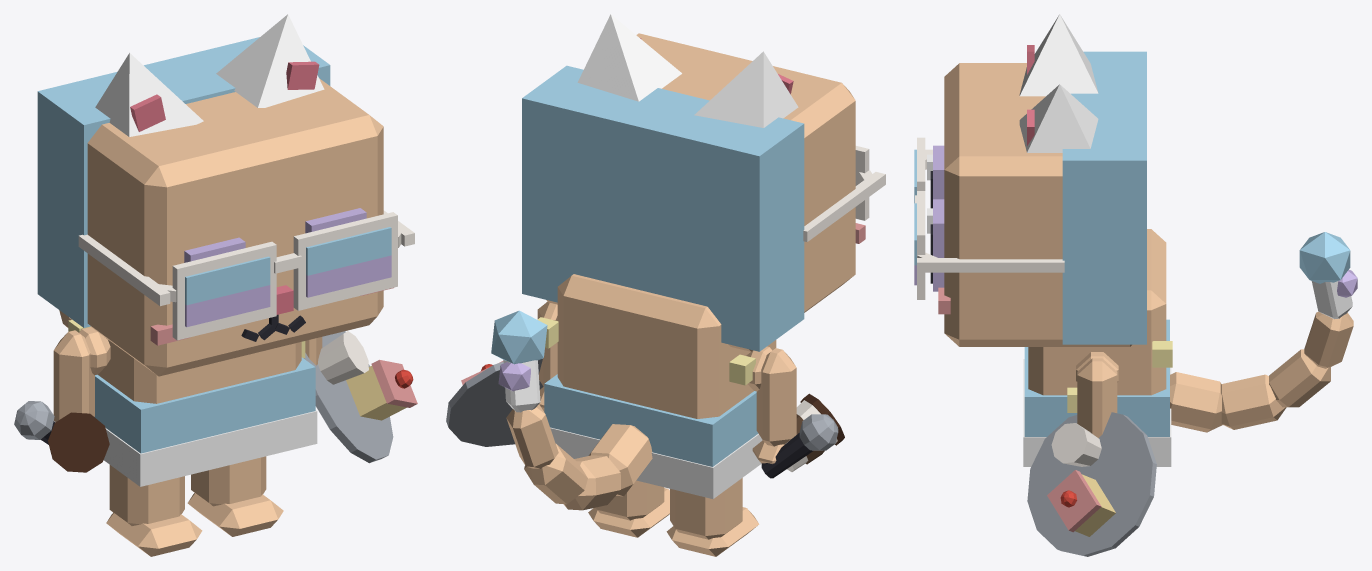
File: CatCafe_Cat_Mirage_Work.glb
3 renders of one model, left to right at view 1: azimuth 30°, elevation 25°; view 2: azimuth 150°, elevation 25°; view 3: azimuth 270°, elevation 25°, orthographic. The views are drawn at different scales.
Visible parts, largest first — view 1: CatCafe_Cat_Mirage_Work_Head, CatCafe_Cat_Mirage_Work_Body, CatCafe_Cat_Mirage_Work_Prop, CatCafe_Cat_Mirage_Work_Held_Waiter, CatCafe_Cat_Mirage_Work_EarL, CatCafe_Cat_Mirage_Work_LegB2, CatCafe_Cat_Mirage_Work_LegB1, CatCafe_Cat_Mirage_Work_EarR, CatCafe_Cat_Mirage_Work_LegF2, CatCafe_Cat_Mirage_Work_Held_Barista, CatCafe_Cat_Mirage_Work_Held_Entertainer, CatCafe_Cat_Mirage_Work_Eye1 (+1 smaller); view 2: CatCafe_Cat_Mirage_Work_Head, CatCafe_Cat_Mirage_Work_Body, CatCafe_Cat_Mirage_Work_Tail, CatCafe_Cat_Mirage_Work_EarL, CatCafe_Cat_Mirage_Work_LegB2, CatCafe_Cat_Mirage_Work_EarR, CatCafe_Cat_Mirage_Work_Held_Waiter, CatCafe_Cat_Mirage_Work_LegF2, CatCafe_Cat_Mirage_Work_Tail_Glow, CatCafe_Cat_Mirage_Work_LegB1, CatCafe_Cat_Mirage_Work_Prop, CatCafe_Cat_Mirage_Work_Held_Entertainer (+2 smaller); view 3: CatCafe_Cat_Mirage_Work_Head, CatCafe_Cat_Mirage_Work_Held_Waiter, CatCafe_Cat_Mirage_Work_Body, CatCafe_Cat_Mirage_Work_Tail, CatCafe_Cat_Mirage_Work_Prop, CatCafe_Cat_Mirage_Work_EarR, CatCafe_Cat_Mirage_Work_EarL, CatCafe_Cat_Mirage_Work_LegF1, CatCafe_Cat_Mirage_Work_Tail_Glow, CatCafe_Cat_Mirage_Work_Eye1, CatCafe_Cat_Mirage_Work_Eye2.
Boxes of the visible parts, x1,y1,x2,y2 form: CatCafe_Cat_Mirage_Work_Head: [37, 37, 393, 376]; CatCafe_Cat_Mirage_Work_Body: [68, 319, 317, 486]; CatCafe_Cat_Mirage_Work_Prop: [78, 210, 414, 340]; CatCafe_Cat_Mirage_Work_Held_Waiter: [304, 331, 417, 463]; CatCafe_Cat_Mirage_Work_EarL: [216, 14, 324, 107]; CatCafe_Cat_Mirage_Work_LegB2: [106, 465, 202, 556]; CatCafe_Cat_Mirage_Work_LegB1: [187, 456, 283, 536]; CatCafe_Cat_Mirage_Work_EarR: [95, 53, 203, 136]; CatCafe_Cat_Mirage_Work_LegF2: [53, 330, 94, 421]; CatCafe_Cat_Mirage_Work_Held_Barista: [48, 412, 109, 472]; CatCafe_Cat_Mirage_Work_Held_Entertainer: [14, 401, 55, 444]; CatCafe_Cat_Mirage_Work_Eye1: [305, 208, 366, 233]; CatCafe_Cat_Mirage_Work_Head: [522, 33, 865, 351]; CatCafe_Cat_Mirage_Work_Body: [537, 274, 776, 498]; CatCafe_Cat_Mirage_Work_Tail: [503, 360, 652, 510]; CatCafe_Cat_Mirage_Work_EarL: [577, 14, 681, 101]; CatCafe_Cat_Mirage_Work_LegB2: [666, 478, 759, 556]; CatCafe_Cat_Mirage_Work_EarR: [694, 51, 798, 127]; CatCafe_Cat_Mirage_Work_Held_Waiter: [446, 358, 543, 446]; CatCafe_Cat_Mirage_Work_LegF2: [752, 348, 796, 463]; CatCafe_Cat_Mirage_Work_Tail_Glow: [491, 310, 547, 391]; CatCafe_Cat_Mirage_Work_LegB1: [588, 480, 669, 537]; CatCafe_Cat_Mirage_Work_Prop: [803, 146, 885, 241]; CatCafe_Cat_Mirage_Work_Held_Entertainer: [761, 414, 838, 478]; CatCafe_Cat_Mirage_Work_Head: [938, 51, 1146, 346]; CatCafe_Cat_Mirage_Work_Held_Waiter: [1027, 412, 1156, 556]; CatCafe_Cat_Mirage_Work_Body: [1023, 229, 1172, 466]; CatCafe_Cat_Mirage_Work_Tail: [1170, 281, 1353, 432]; CatCafe_Cat_Mirage_Work_Prop: [914, 137, 1064, 299]; CatCafe_Cat_Mirage_Work_EarR: [1019, 14, 1098, 96]; CatCafe_Cat_Mirage_Work_EarL: [1019, 84, 1098, 152]; CatCafe_Cat_Mirage_Work_LegF1: [1077, 358, 1117, 437]; CatCafe_Cat_Mirage_Work_Tail_Glow: [1299, 232, 1357, 297]; CatCafe_Cat_Mirage_Work_Eye1: [927, 199, 944, 291]; CatCafe_Cat_Mirage_Work_Eye2: [927, 145, 944, 208].
Size of the model in its own units: 1.53 by 1.93 by 1.68.
1 material, 1 textured.
